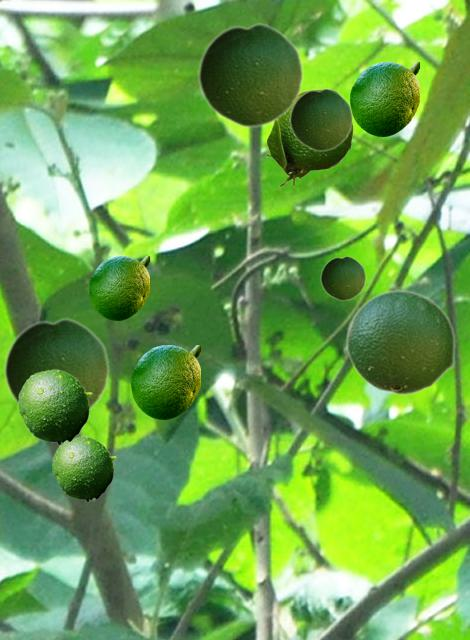dalandan: (345, 289, 455, 395), (197, 21, 303, 128), (3, 316, 109, 411), (265, 89, 352, 186), (18, 369, 91, 444), (350, 62, 418, 135), (131, 345, 199, 418), (52, 436, 115, 501), (289, 87, 352, 151), (89, 256, 148, 319), (320, 255, 365, 300)
